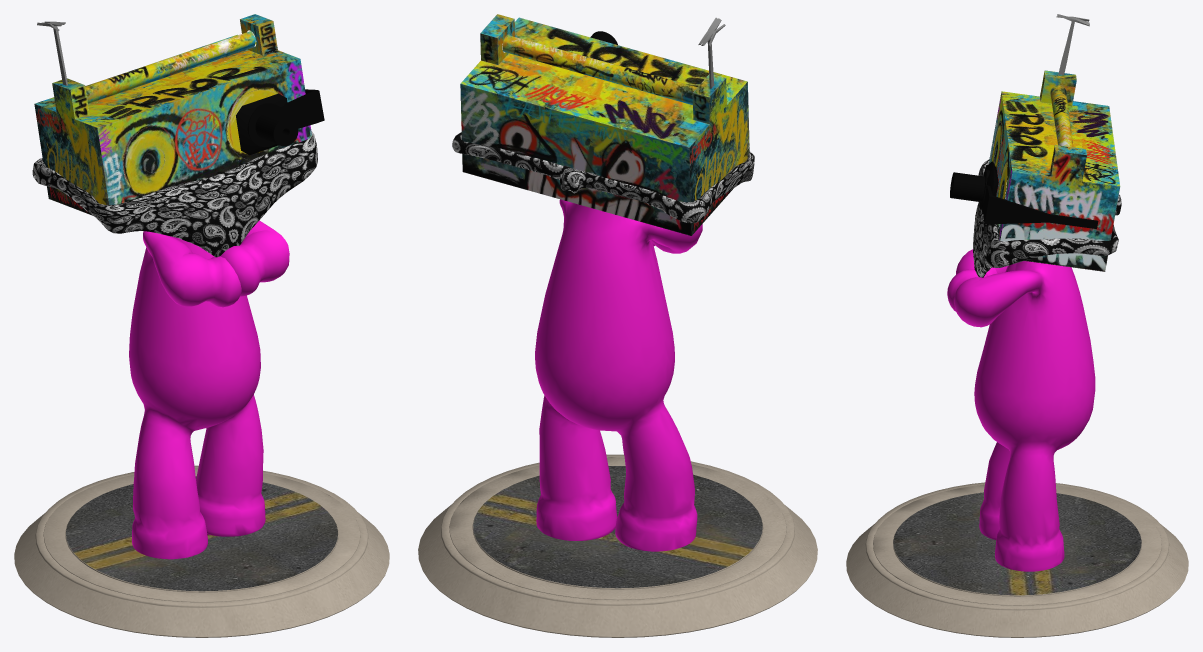
The picture shows the model from 3 angles, left to right: view 1: azimuth 30°, elevation 25°; view 2: azimuth 150°, elevation 25°; view 3: azimuth 270°, elevation 25°; orthographic projection. The views are drawn at different scales.
Bounding box in the file's own units: 1.45 × 2.33 × 1.45.
Materials: 7 (4 with a texture image).
